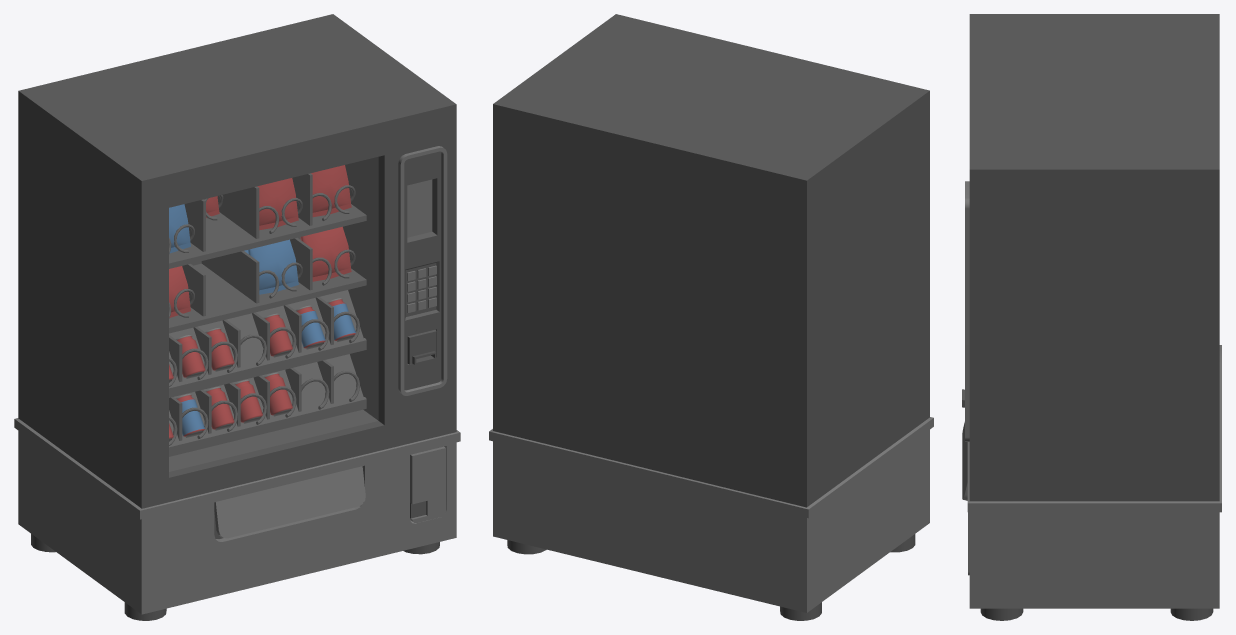
The model's file is SM_VendingMachine01.fbx.
The picture shows the model from 3 angles, left to right: view 1: azimuth 30°, elevation 25°; view 2: azimuth 150°, elevation 25°; view 3: azimuth 270°, elevation 25°; orthographic projection.
Visible parts, largest first — view 1: SM_VendingMachine01; view 2: SM_VendingMachine01; view 3: SM_VendingMachine01.
Part boxes in pixels (x1,y1,x2,y2): SM_VendingMachine01: [14, 14, 460, 620]; SM_VendingMachine01: [489, 14, 933, 620]; SM_VendingMachine01: [962, 14, 1221, 620].
Bounding box in the file's own units: 150 × 200 × 104.
